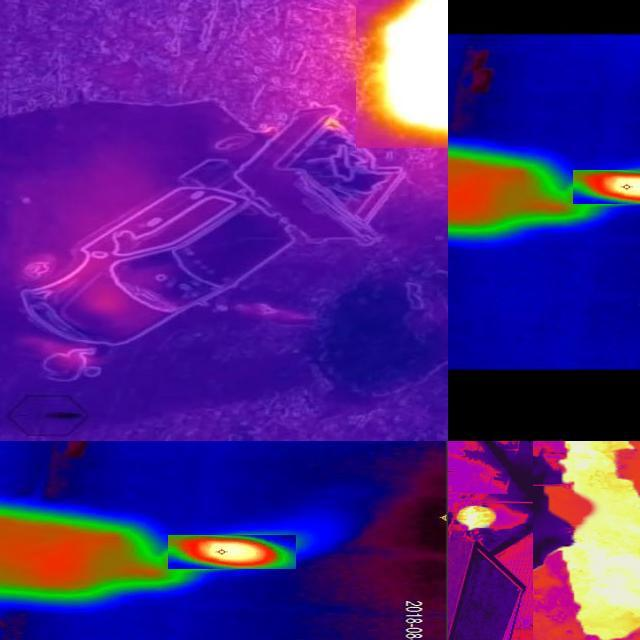fire: (533, 442, 640, 640), (356, 1, 449, 149), (168, 536, 296, 570), (573, 171, 640, 205)
